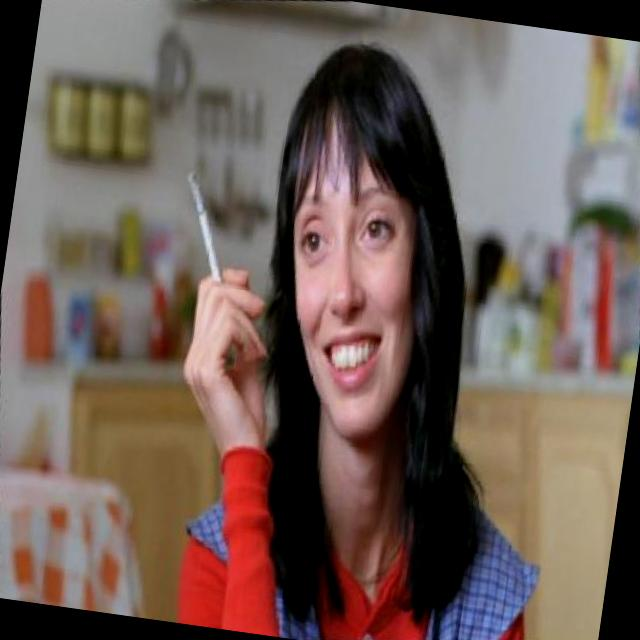cigarette: (170, 162, 244, 292)
